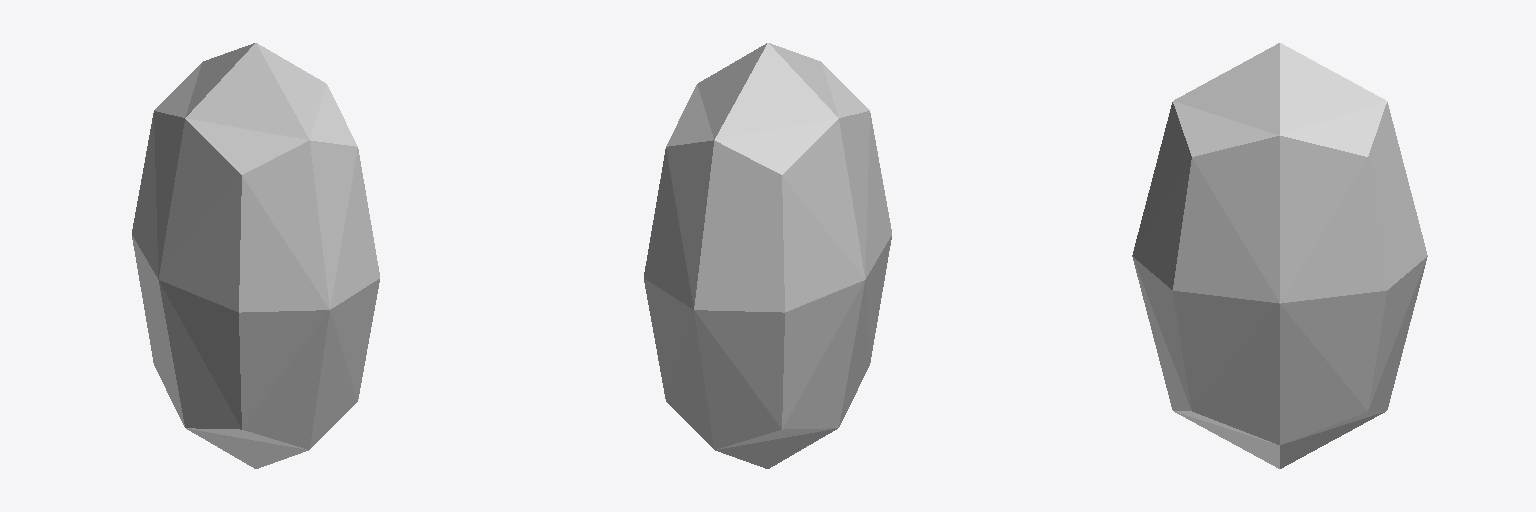
3 renders of one model, left to right at view 1: azimuth 30°, elevation 25°; view 2: azimuth 150°, elevation 25°; view 3: azimuth 270°, elevation 25°, orthographic.
Parts seen in each view (by area): view 1: 立方体.005; view 2: 立方体.005; view 3: 立方体.005.
Part boxes in pixels (left/top/right/bottom): 立方体.005: left=132, top=43, right=379, bottom=468; 立方体.005: left=644, top=43, right=891, bottom=468; 立方体.005: left=1132, top=43, right=1427, bottom=468.
Bounding box in the file's own units: 1.43 × 2.99 × 1.88.
Materials: 1 (1 with a texture image).